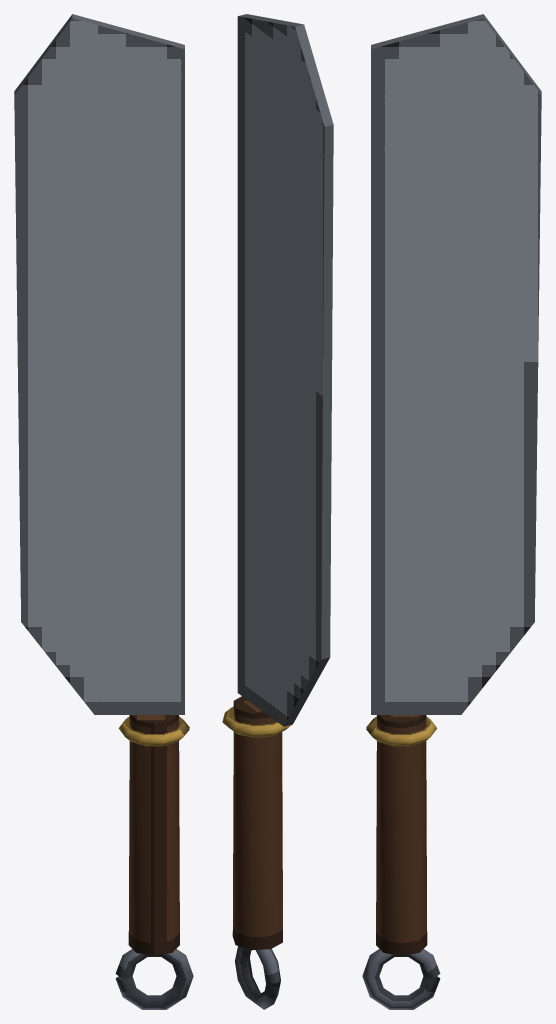
Rendered from bone_cleaver.glb.
3 views of the same model, side by side, from view 1: azimuth 90°, elevation 25°; view 2: azimuth 210°, elevation 25°; view 3: azimuth 270°, elevation 25° (orthographic).
Parts seen in each view (by area): view 1: bone_cleaver; view 2: bone_cleaver; view 3: bone_cleaver.
Boxes of the visible parts, x1,y1,x2,y2 form: bone_cleaver: [14, 14, 193, 1009]; bone_cleaver: [222, 14, 333, 1009]; bone_cleaver: [362, 14, 541, 1009].
Bounding box in the file's own units: 0.0399 × 0.6419 × 0.105.
1 material, 1 textured.
